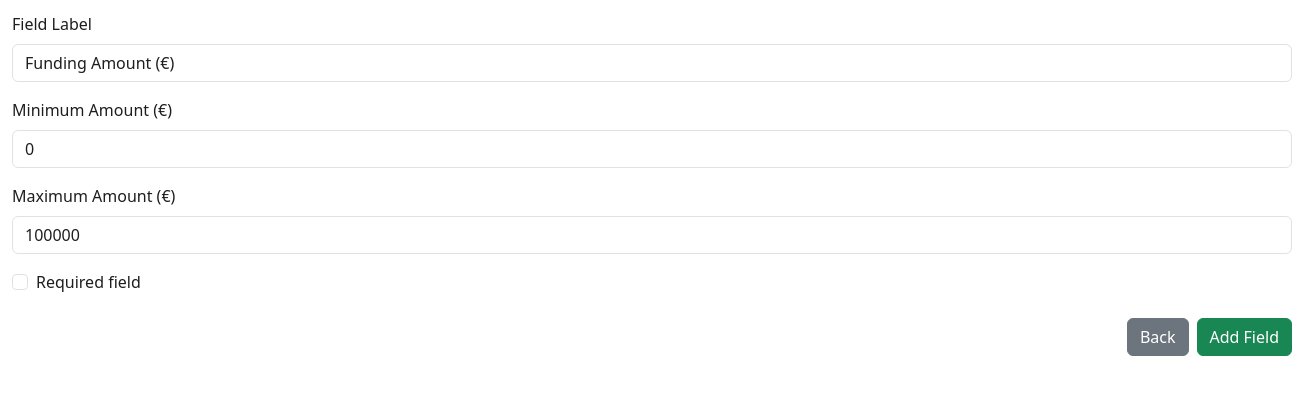
CurrencyFieldConfigurator › validation error shown to users when label is empty
Leave the label field empty and attempt to submit the form
Clear the field showing "Funding Amount (€)". click: [652, 63]
box: [12,44,1292,82]
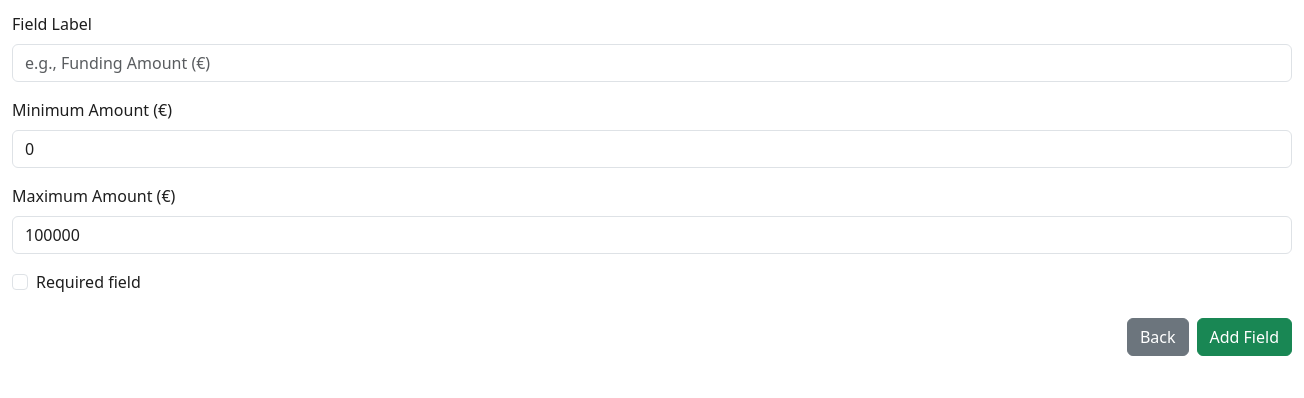
Tqry to submit the form
Click the button "Add Field". click: [1244, 337]
box: [1196,318,1292,356]
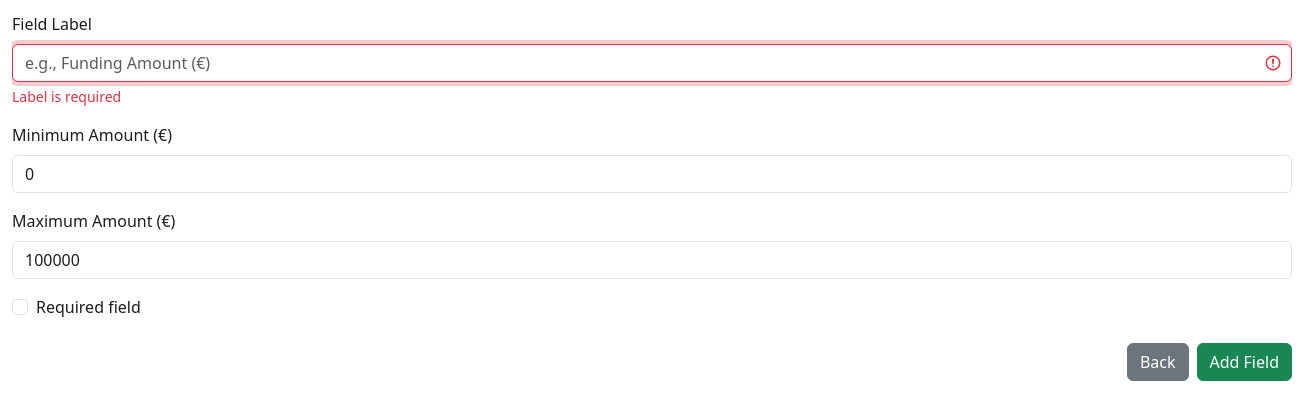
Expected: the text "Label is required" is shown, [12,87,121,106]
